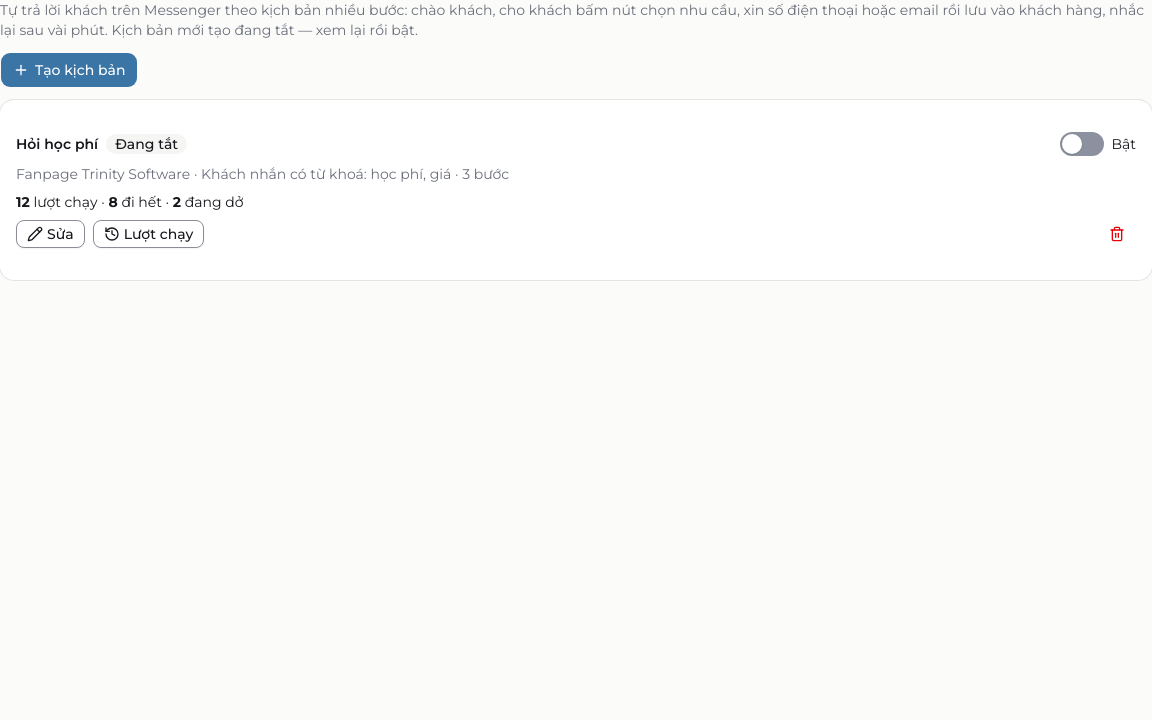
Test: FacebookFlows › sửa: mở đủ bước, xem trước thay {ten}, nút hiện thành chip, có dòng chờ
This screenshot has width=1152, height=720.
Click the button "Sửa": [50, 234] box [16,220,85,248]
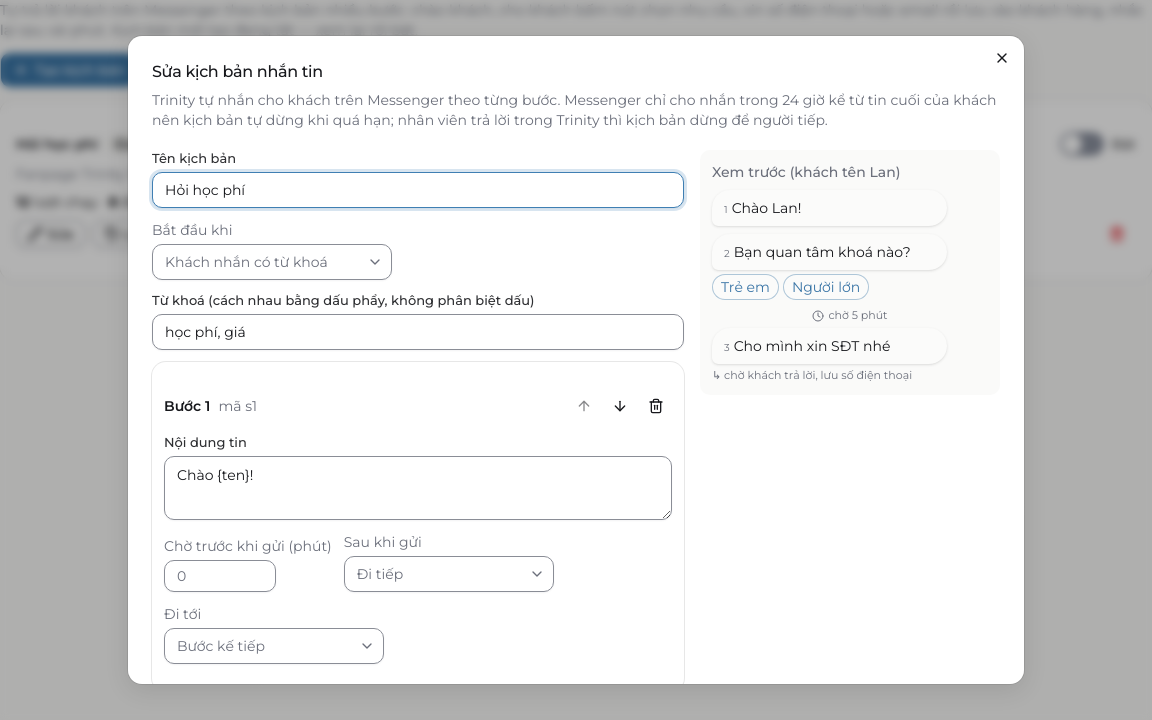
Check: the element named "Xem trước kịch bản" shows "Chào Lan!", box [732,199,801,217]
Check: the element named "Xem trước kịch bản" shows "Trẻ em", box [721,278,770,296]
Check: the element named "Xem trước kịch bản" shows "chờ 5 phút", box [700,150,1000,395]
